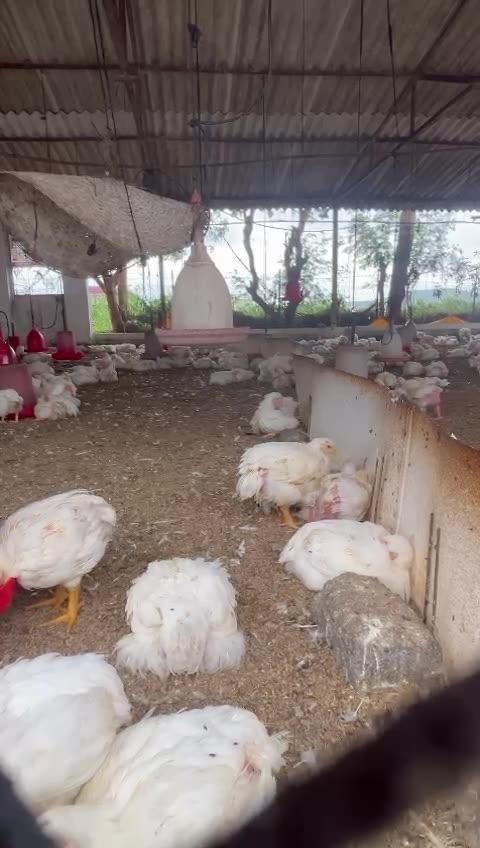AbNormal: (53, 705, 282, 848), (0, 652, 130, 810), (129, 555, 246, 672), (285, 524, 409, 592), (327, 465, 372, 521), (257, 390, 306, 431), (36, 385, 82, 424), (30, 367, 81, 389), (89, 355, 124, 380)
Normal: (0, 487, 120, 628), (238, 435, 339, 525), (405, 377, 450, 413), (0, 389, 27, 425)
